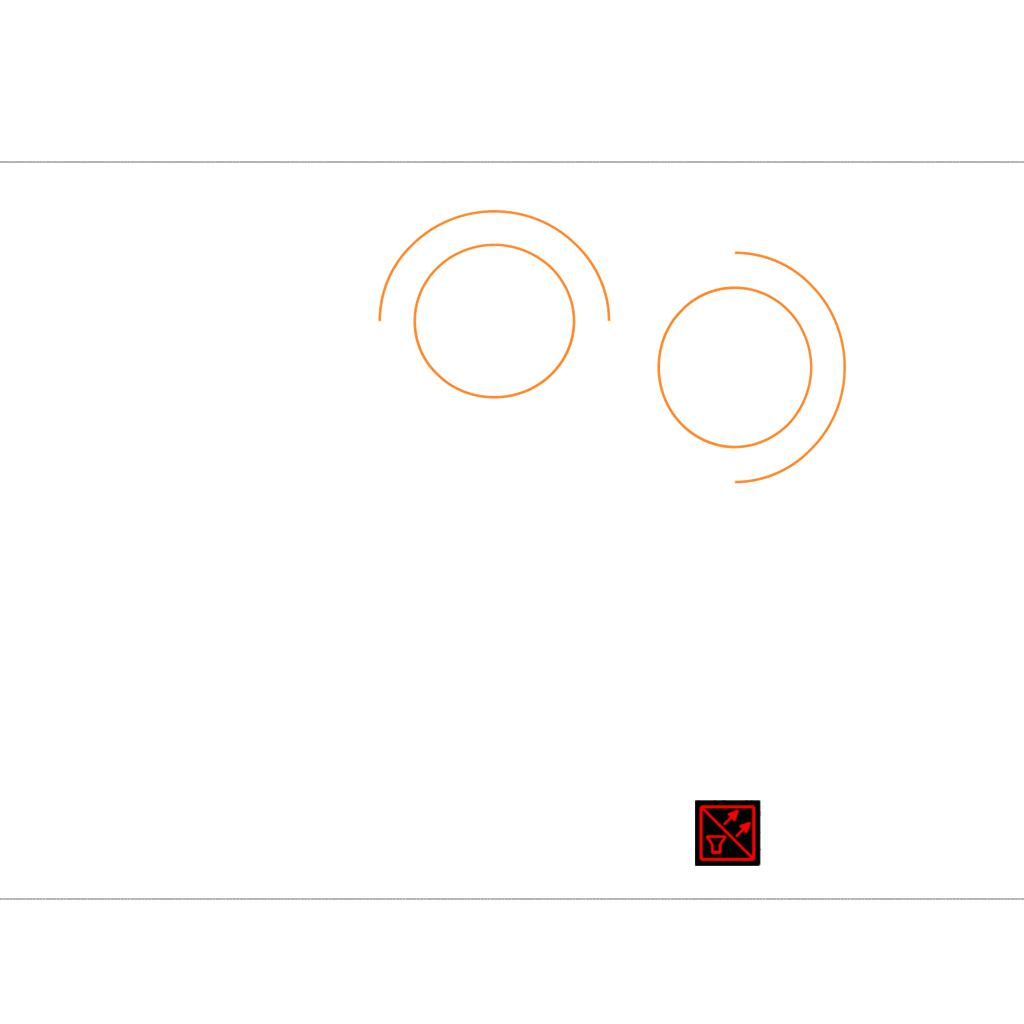OKW_Multisensormelder_(Kombination_optischer_Rauch-Kahlenmonoxid_Waerme-Melder): (695, 800, 761, 866)
Scheinwerfer_fuer_Alarmbeleuchtung: (356, 199, 620, 424), (632, 229, 857, 493)
